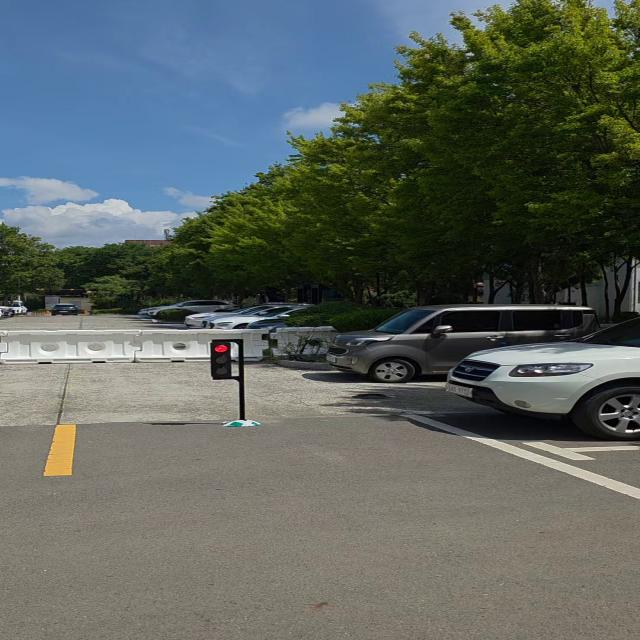red: (202, 340, 236, 382)
